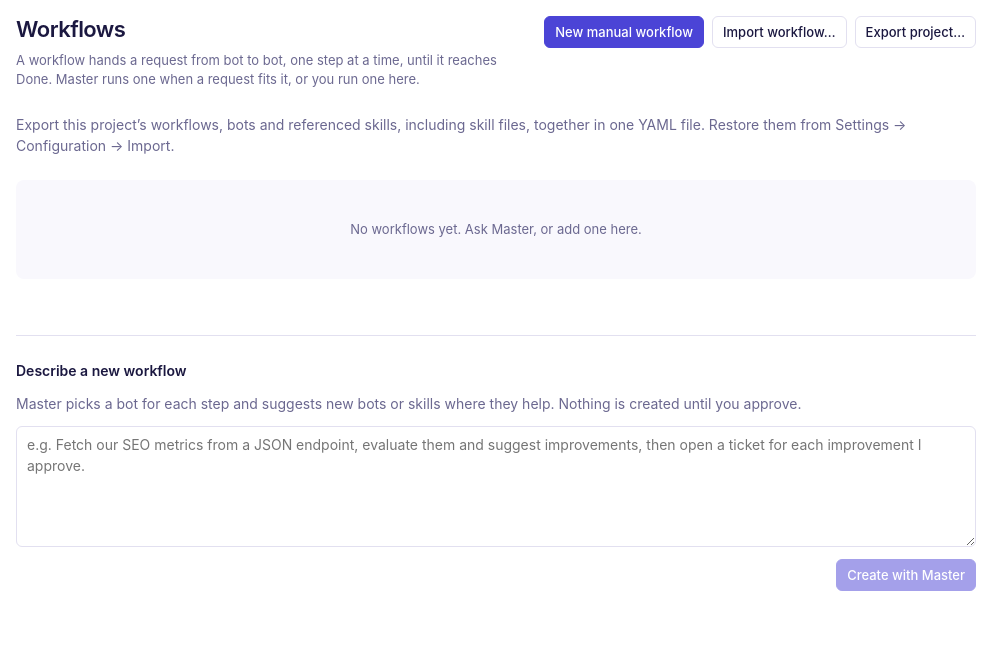
the Workflows page › can export bots and skills even when there are no workflows
Click the button "Export project…": (915, 32) [854,16,976,48]
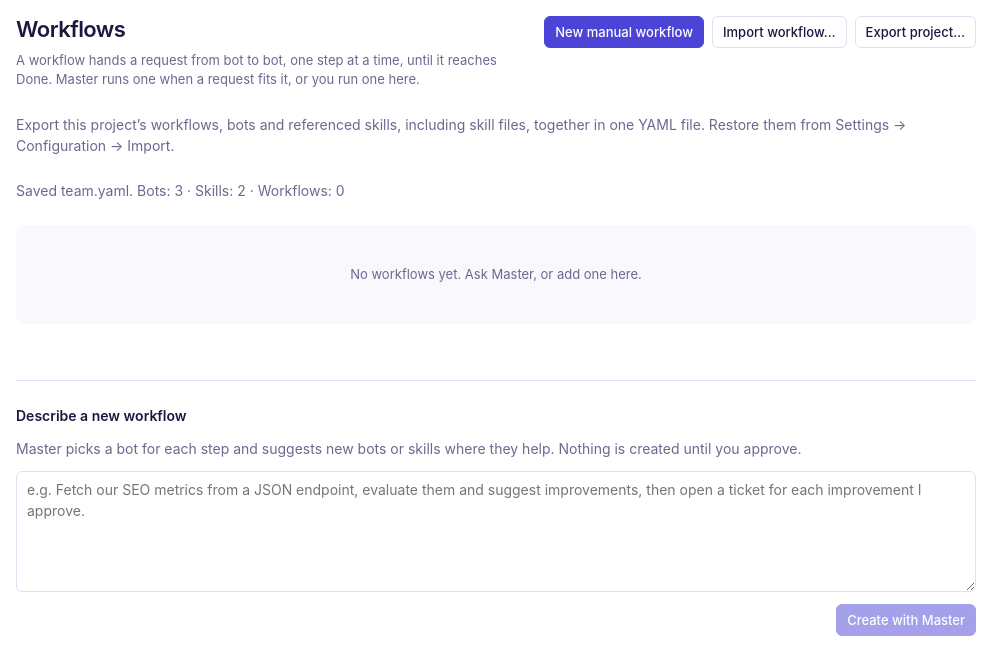
Expected: the message "Saved team.yaml. Bots: 3 · Skills: 2 · Workflows: 0" is shown, [16,182,345,199]
